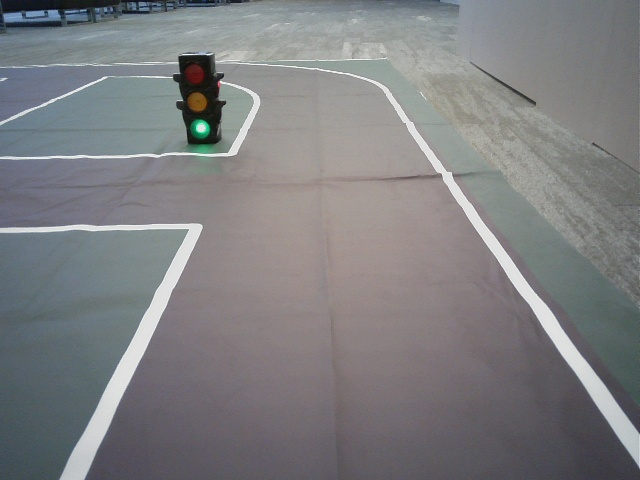green: (177, 57, 212, 141)
